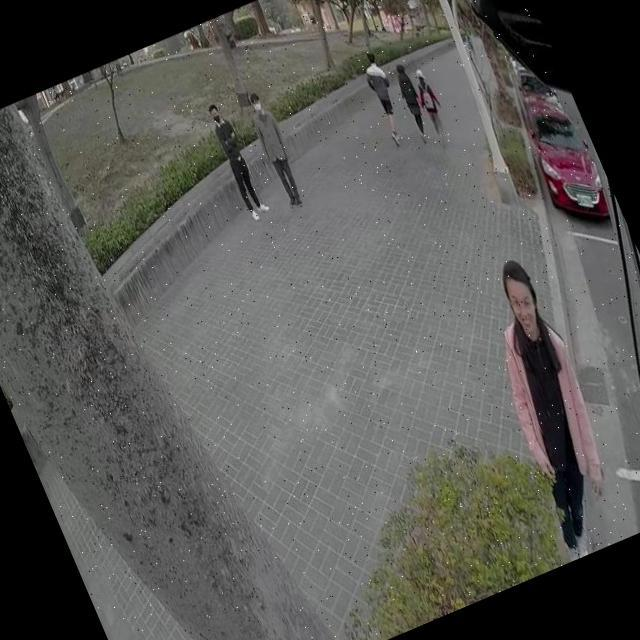person: (452, 252, 640, 561), (240, 87, 310, 210), (203, 100, 270, 220), (354, 48, 412, 146), (406, 66, 456, 150), (391, 61, 436, 146)
